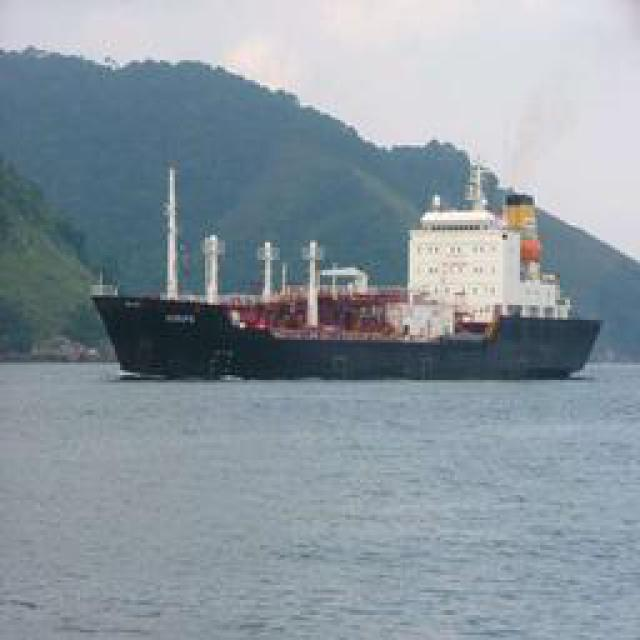Ship: (99, 162, 612, 385)
